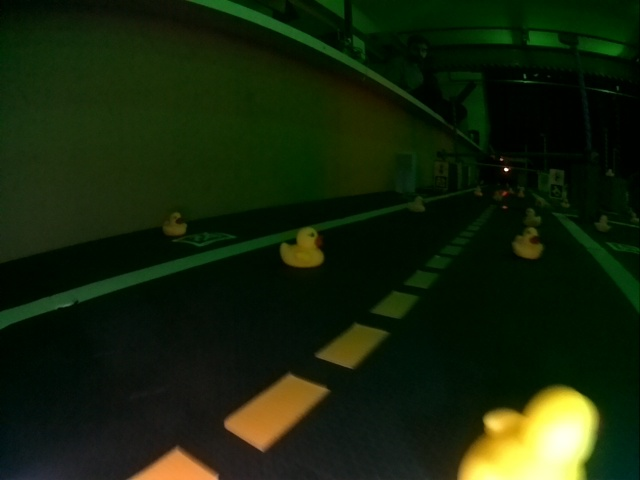Duckie: (456, 389, 597, 479), (281, 228, 325, 268), (511, 228, 545, 257), (163, 214, 186, 236)
